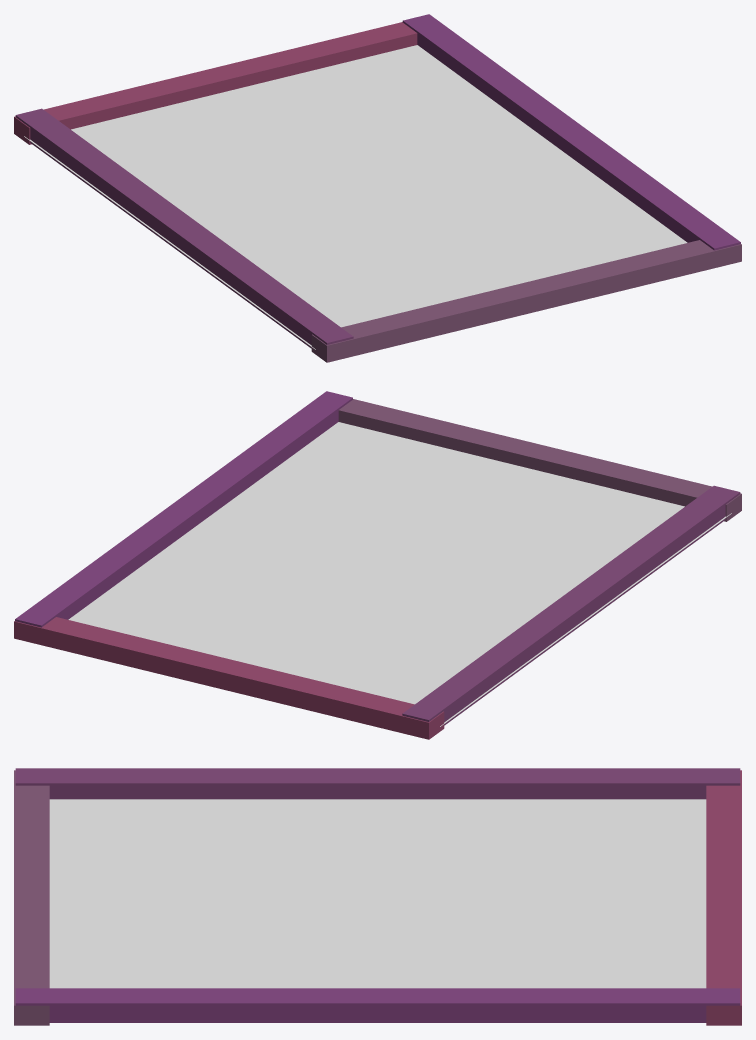
File: picture 7.fbx
3 views of the same model, one above another, from view 1: azimuth 30°, elevation 25°; view 2: azimuth 150°, elevation 25°; view 3: azimuth 270°, elevation 25° (orthographic). The views are drawn at different scales.
Visible parts, largest first — view 1: 平面, 立方体.003, 立方体.001, 立方体, 立方体.002; view 2: 平面, 立方体.002, 立方体.001, 立方体, 立方体.003; view 3: 平面, 立方体, 立方体.001, 立方体.002, 立方体.003.
Part boxes in pixels (x1,y1,x2,y2): 平面: (24, 45, 687, 349); 立方体.003: (311, 240, 741, 362); 立方体.001: (15, 108, 353, 348); 立方体: (402, 14, 740, 250); 立方体.002: (14, 22, 417, 144); 平面: (68, 422, 731, 726); 立方体.002: (14, 617, 444, 739); 立方体.001: (402, 485, 740, 725); 立方体: (15, 391, 352, 627); 立方体.003: (338, 399, 741, 521); 平面: (49, 799, 706, 988); 立方体: (15, 988, 740, 1022); 立方体.001: (15, 768, 740, 799); 立方体.002: (706, 770, 741, 1025); 立方体.003: (14, 770, 49, 1025).
Size of the model in its own units: 231 by 10.1 by 301.
